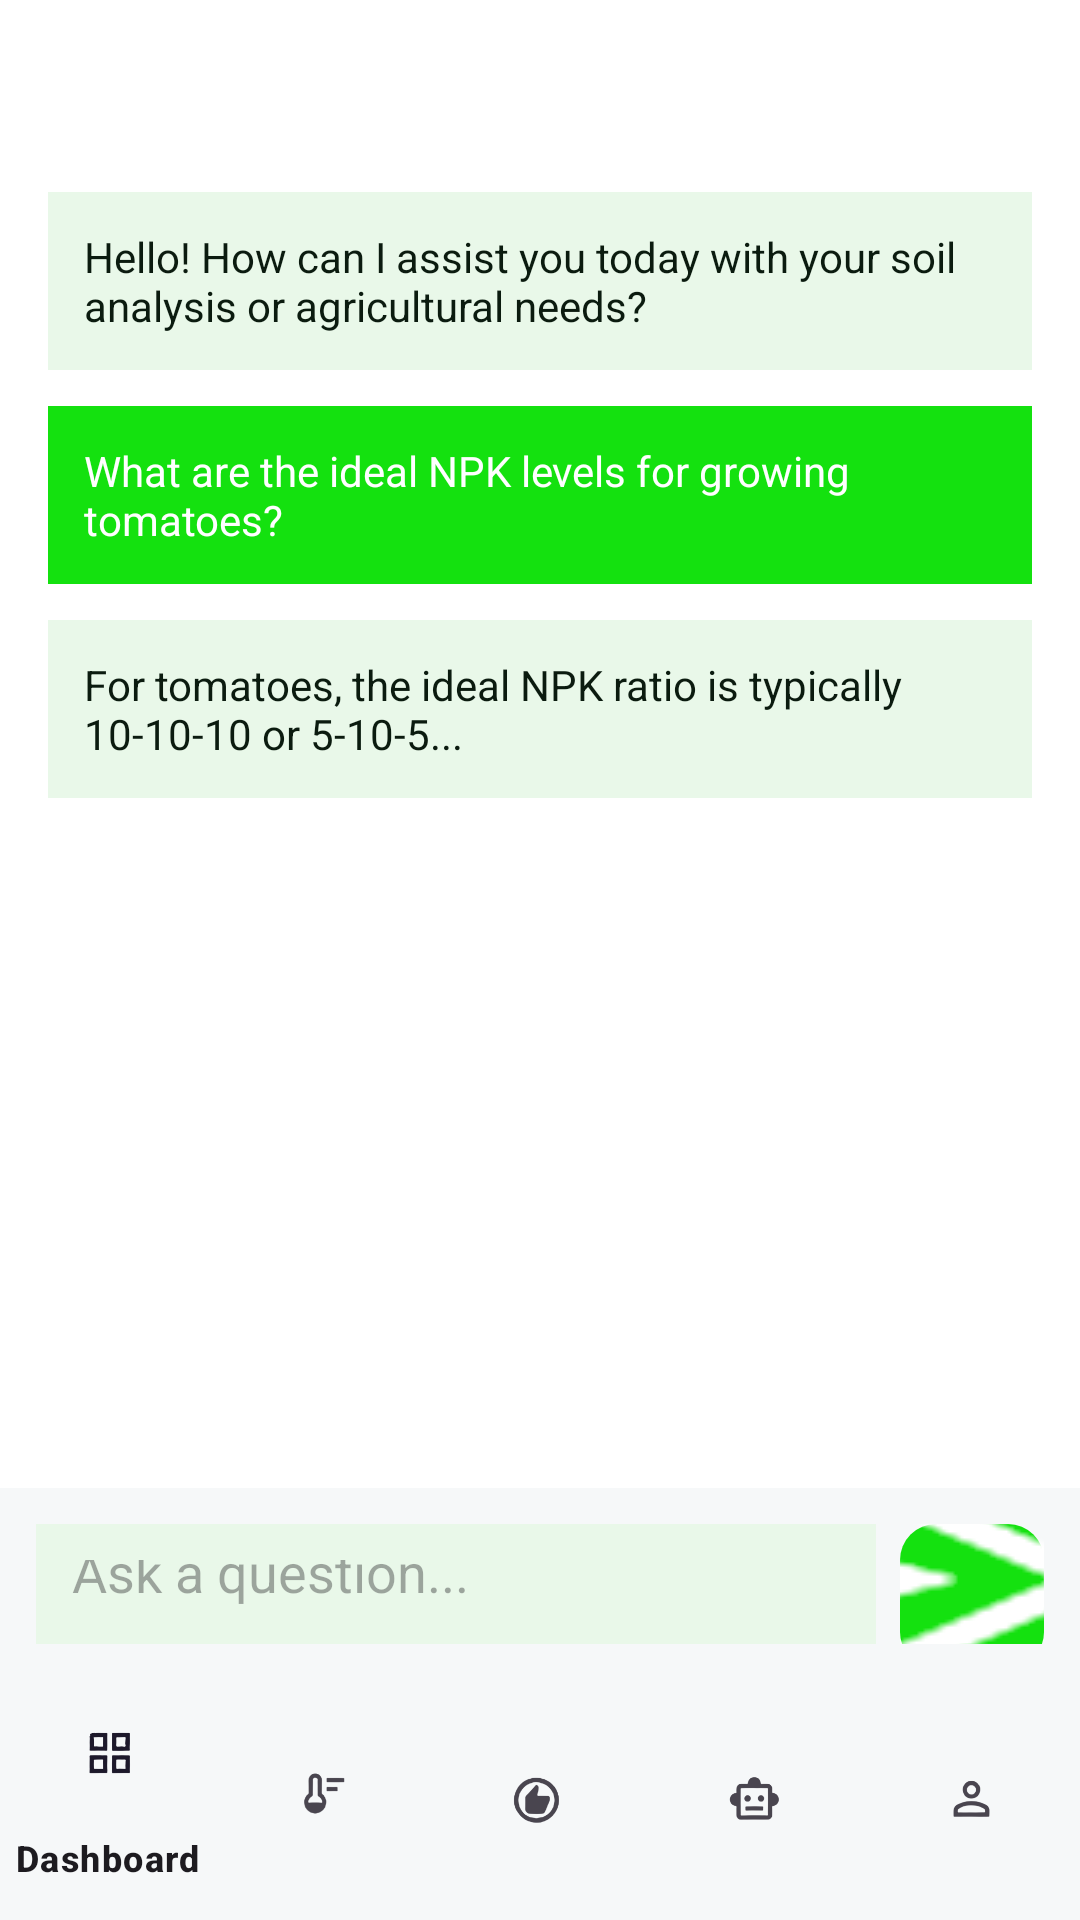

Icons on this 1080*1920 Android screen, each with its box as box(x1, y1, x2, y2):
send: box(900, 1524, 1044, 1644)
